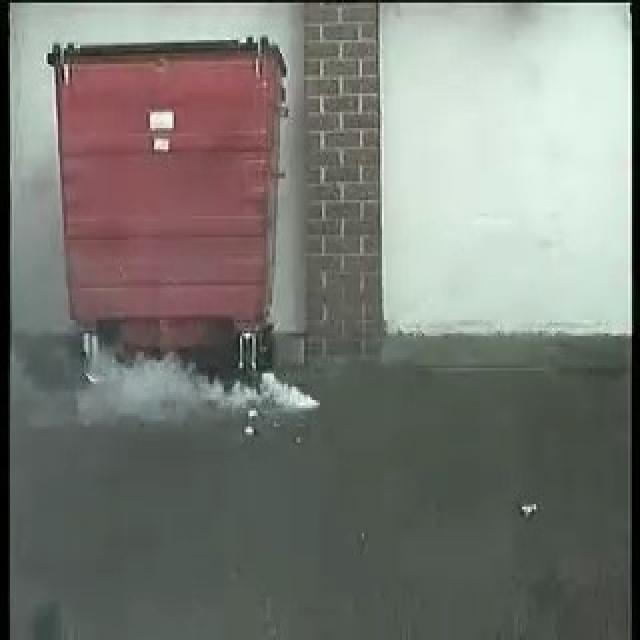smoke: (92, 363, 322, 421)
